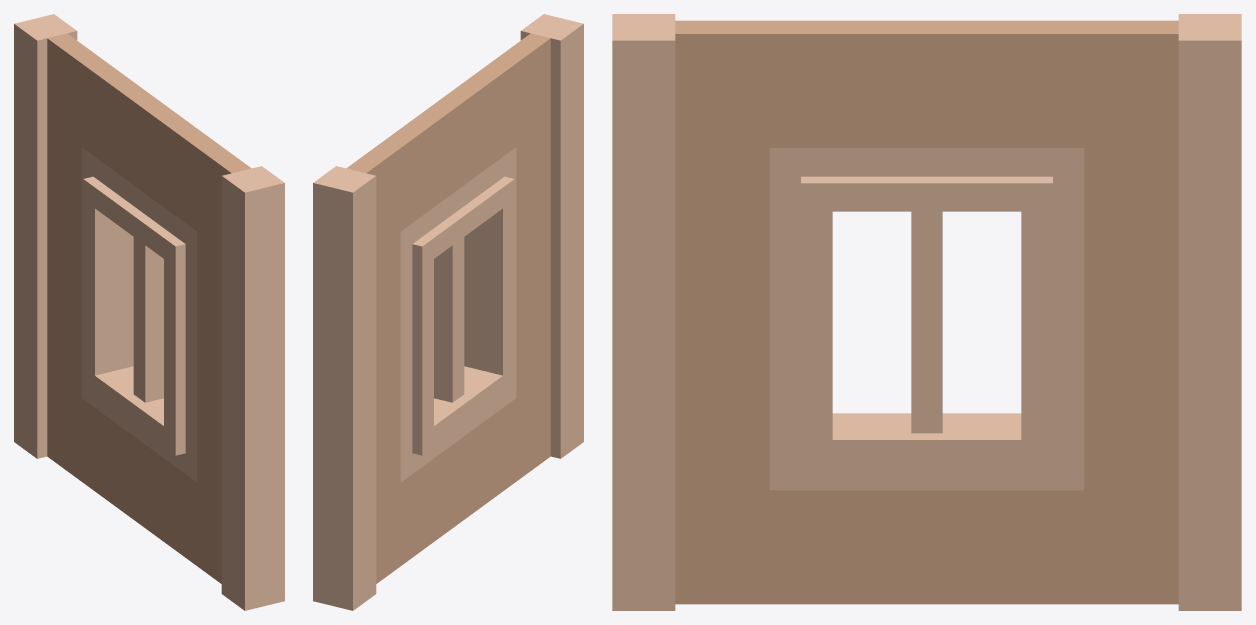
The picture shows the model from 3 angles, left to right: view 1: azimuth 30°, elevation 25°; view 2: azimuth 150°, elevation 25°; view 3: azimuth 270°, elevation 25°; orthographic projection. The views are drawn at different scales.
Visible parts, largest first — view 1: wallWoodWindowShutters; view 2: wallWoodWindowShutters; view 3: wallWoodWindowShutters.
Part boxes in pixels (<box>): wallWoodWindowShutters: <box>14,14,284,610</box>; wallWoodWindowShutters: <box>313,14,583,610</box>; wallWoodWindowShutters: <box>612,14,1241,610</box>.
Size of the model in its own units: 0.1 by 1 by 1.
